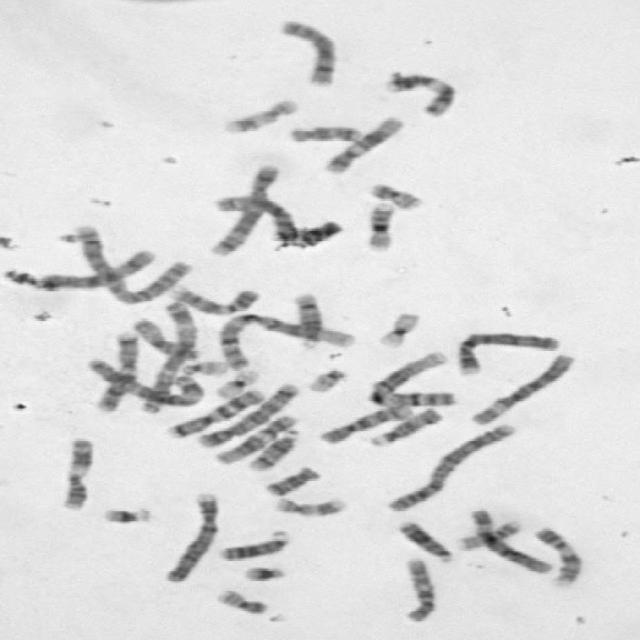A1: (213, 309, 356, 372), (362, 348, 459, 409)
A2: (382, 422, 518, 512), (70, 222, 192, 306)
A3: (134, 298, 200, 414), (82, 354, 207, 408)
B4: (158, 489, 221, 583), (452, 328, 560, 377)
B5: (191, 380, 302, 449), (205, 160, 282, 257)
C10: (314, 402, 415, 445), (399, 555, 438, 623)
C11: (380, 68, 459, 118), (56, 436, 94, 512)
C12: (319, 112, 404, 176), (209, 412, 300, 466)
C6: (465, 350, 576, 428), (466, 506, 554, 574)
C7: (162, 386, 268, 438), (91, 329, 142, 413)
C8: (276, 16, 340, 89), (211, 193, 301, 243)
C9: (531, 524, 584, 588), (165, 282, 261, 316)
D13: (395, 517, 453, 563), (215, 527, 290, 561)
D14: (245, 427, 300, 471), (289, 290, 323, 350)
D15: (364, 405, 446, 447), (128, 315, 200, 361)
E16: (453, 518, 524, 550), (361, 199, 396, 252)
E17: (219, 96, 302, 134), (269, 494, 350, 518)
E18: (258, 464, 322, 497), (285, 122, 364, 144)
F19: (373, 309, 422, 349), (210, 366, 262, 399)
F20: (364, 180, 424, 210), (213, 586, 268, 616)
G21: (97, 504, 155, 525), (238, 563, 288, 582)
G22: (303, 365, 349, 393), (176, 358, 230, 377)
X: (47, 247, 159, 284)
Y: (291, 217, 345, 248)
